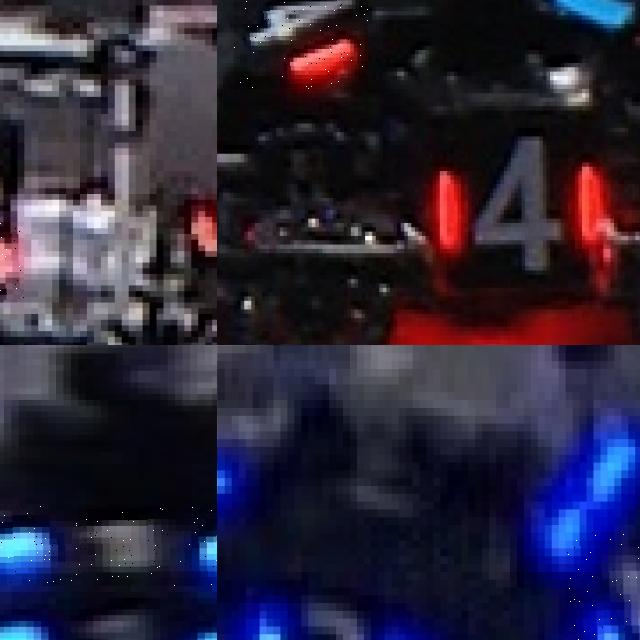B1: (0, 504, 217, 586), (0, 592, 217, 640)
B3: (224, 587, 433, 640), (565, 532, 640, 640)
R4: (418, 132, 604, 275), (233, 0, 368, 89)
